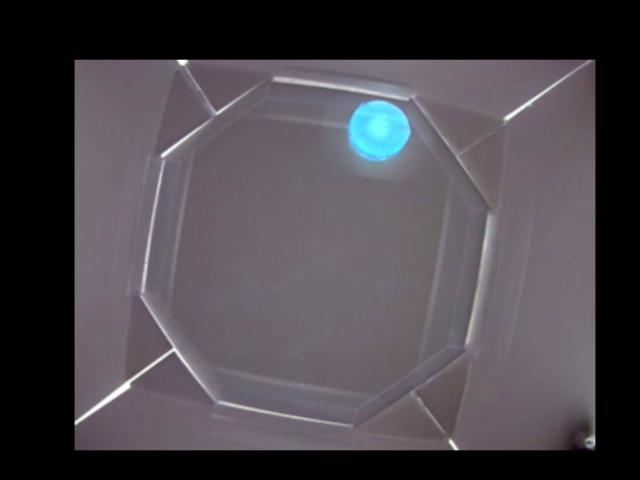Carrot: (348, 101, 410, 158)
